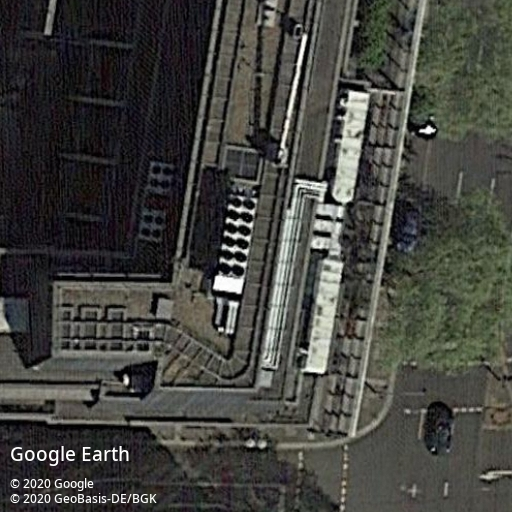Chiller: (218, 194, 258, 280), (145, 160, 175, 195), (138, 209, 167, 244)
